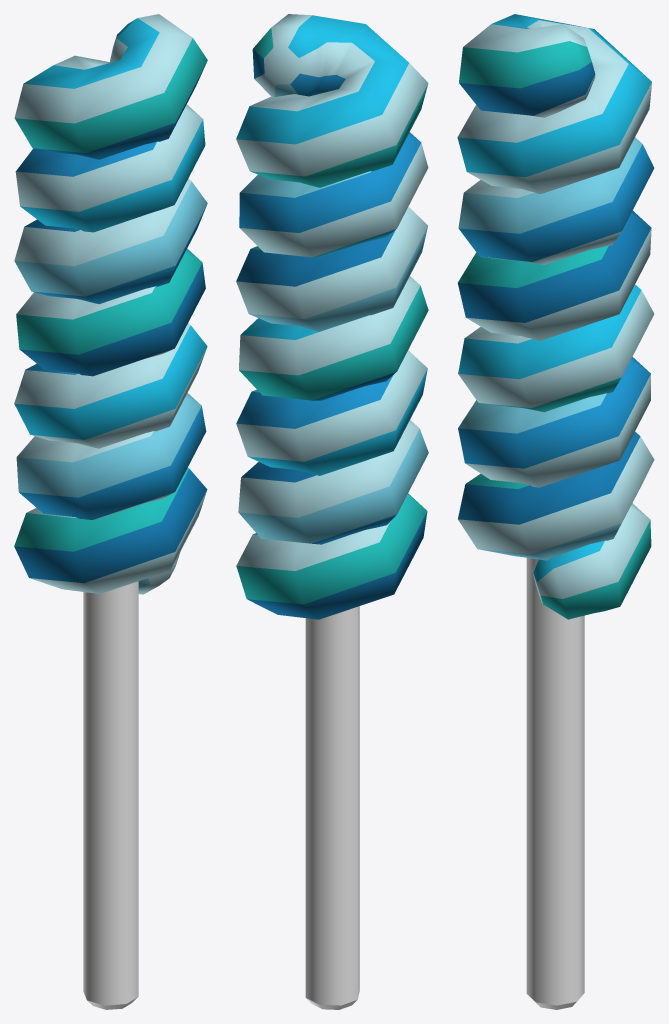
The model's file is Candy_19.fbx.
3 views of the same model, side by side, from view 1: azimuth 30°, elevation 25°; view 2: azimuth 150°, elevation 25°; view 3: azimuth 270°, elevation 25° (orthographic). The views are drawn at different scales.
Parts seen in each view (by area): view 1: Candy_19; view 2: Candy_19; view 3: Candy_19.
Part boxes in pixels (box(x1,y1,x2,y2)): Candy_19: box(14, 14, 207, 1009); Candy_19: box(236, 14, 428, 1009); Candy_19: box(457, 14, 654, 1009).
Size of the model in its own units: 0.4885 by 2.83 by 0.5107.
